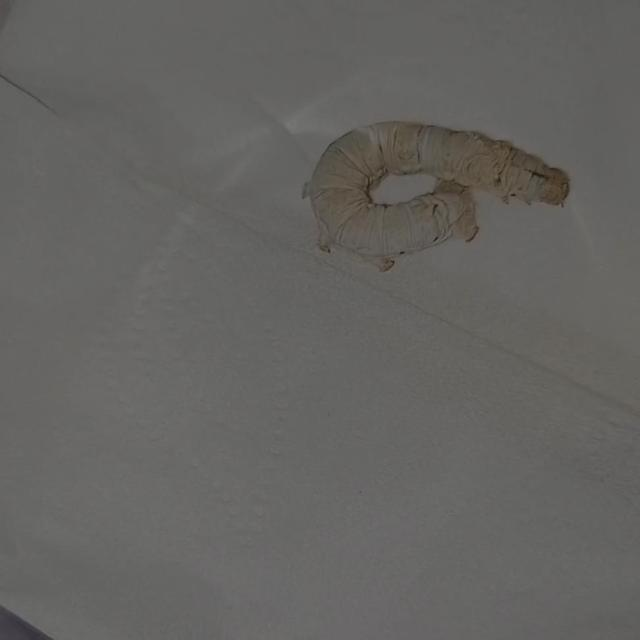Healthy: (292, 92, 594, 302)
